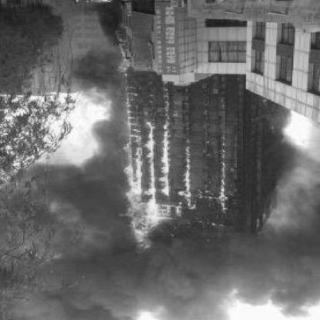Smoke: (89, 6, 122, 47)
